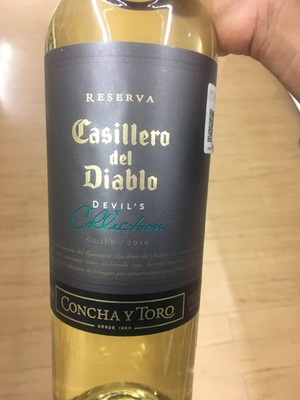casillero del diablo devils collection verde: (45, 23, 218, 400)
